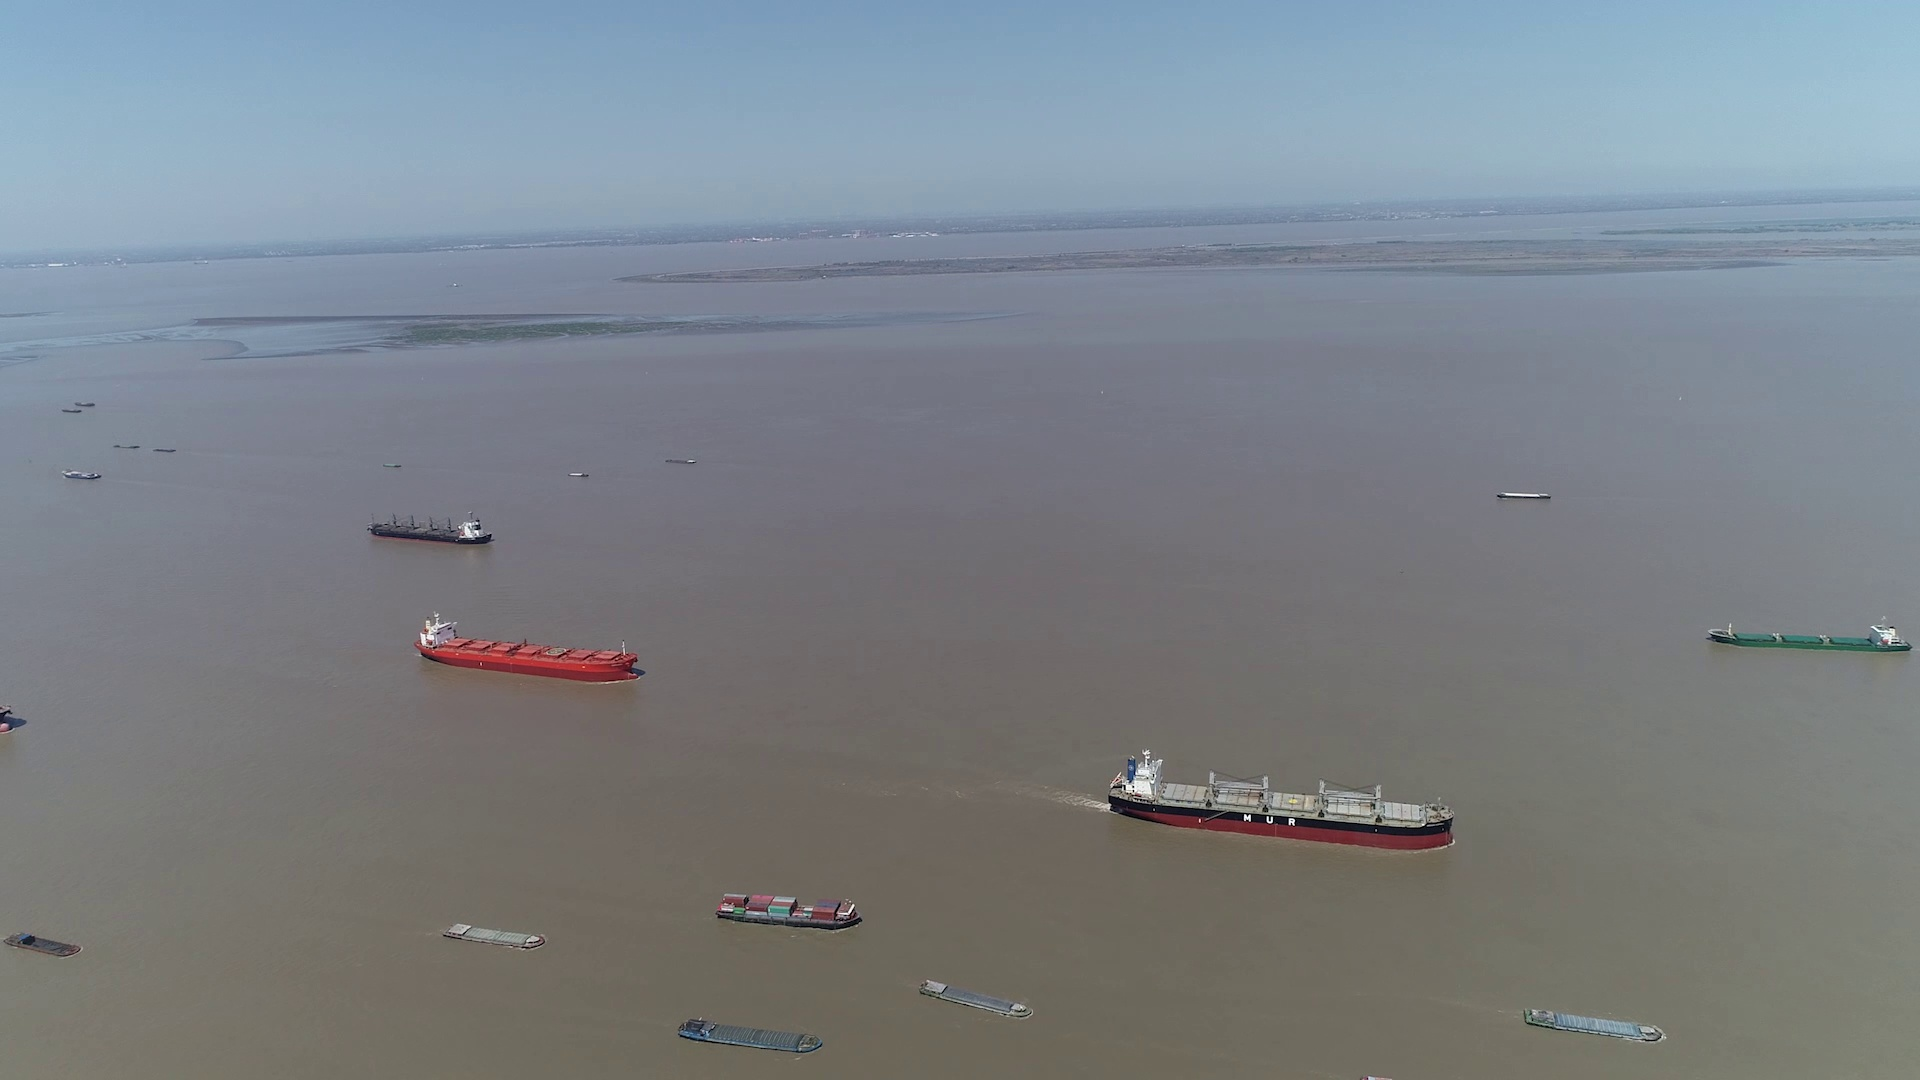ship: (1108, 752, 1455, 848), (413, 613, 640, 680), (1710, 622, 1911, 653), (715, 891, 861, 930), (679, 1018, 822, 1055), (1523, 1007, 1663, 1043), (920, 978, 1033, 1021), (367, 512, 495, 545), (444, 923, 545, 949), (7, 930, 82, 956), (61, 468, 100, 481), (1495, 491, 1549, 500)
